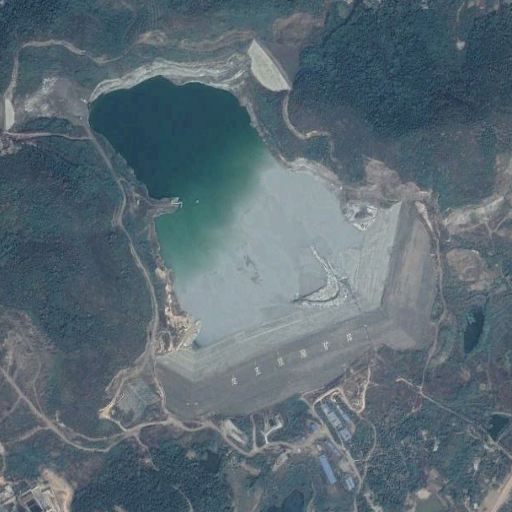tp: (92, 70, 444, 415)
